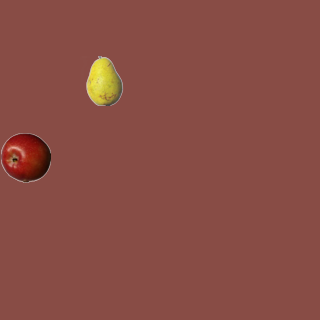Apple Braeburn: (0, 132, 50, 182)
Pear Monster: (79, 55, 129, 105)
